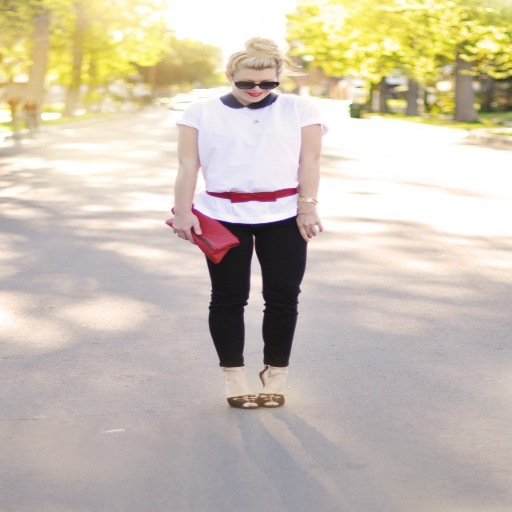hand: (164, 197, 206, 246), (294, 210, 325, 242)
